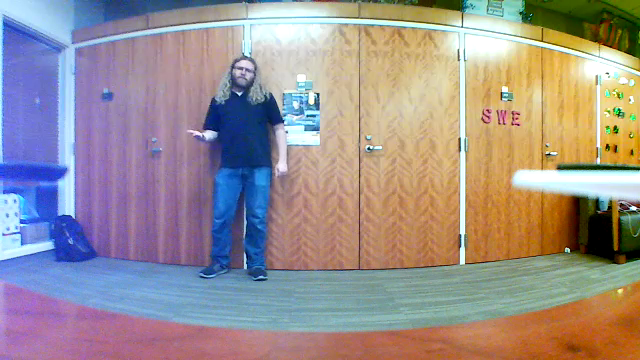land: (181, 125, 213, 142)
